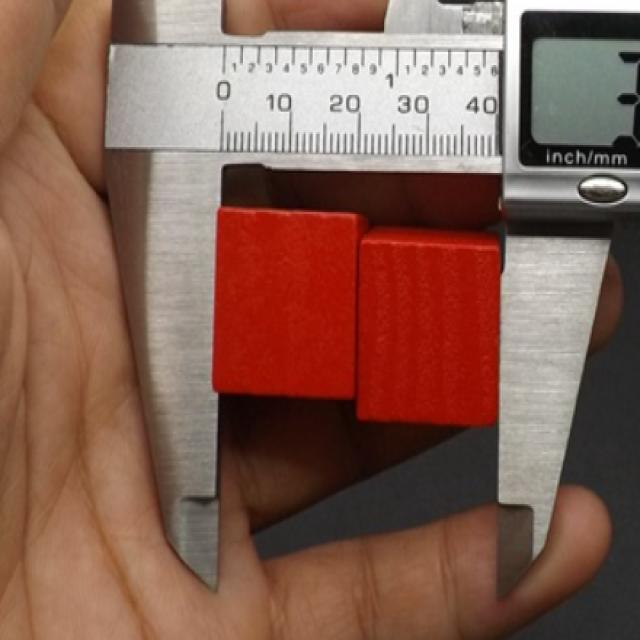red cube: (211, 206, 371, 398), (357, 223, 501, 427)
